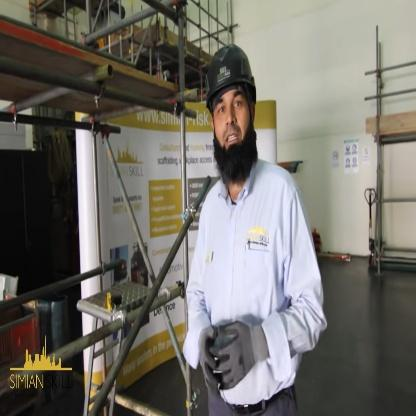helmet: (189, 34, 266, 179)
